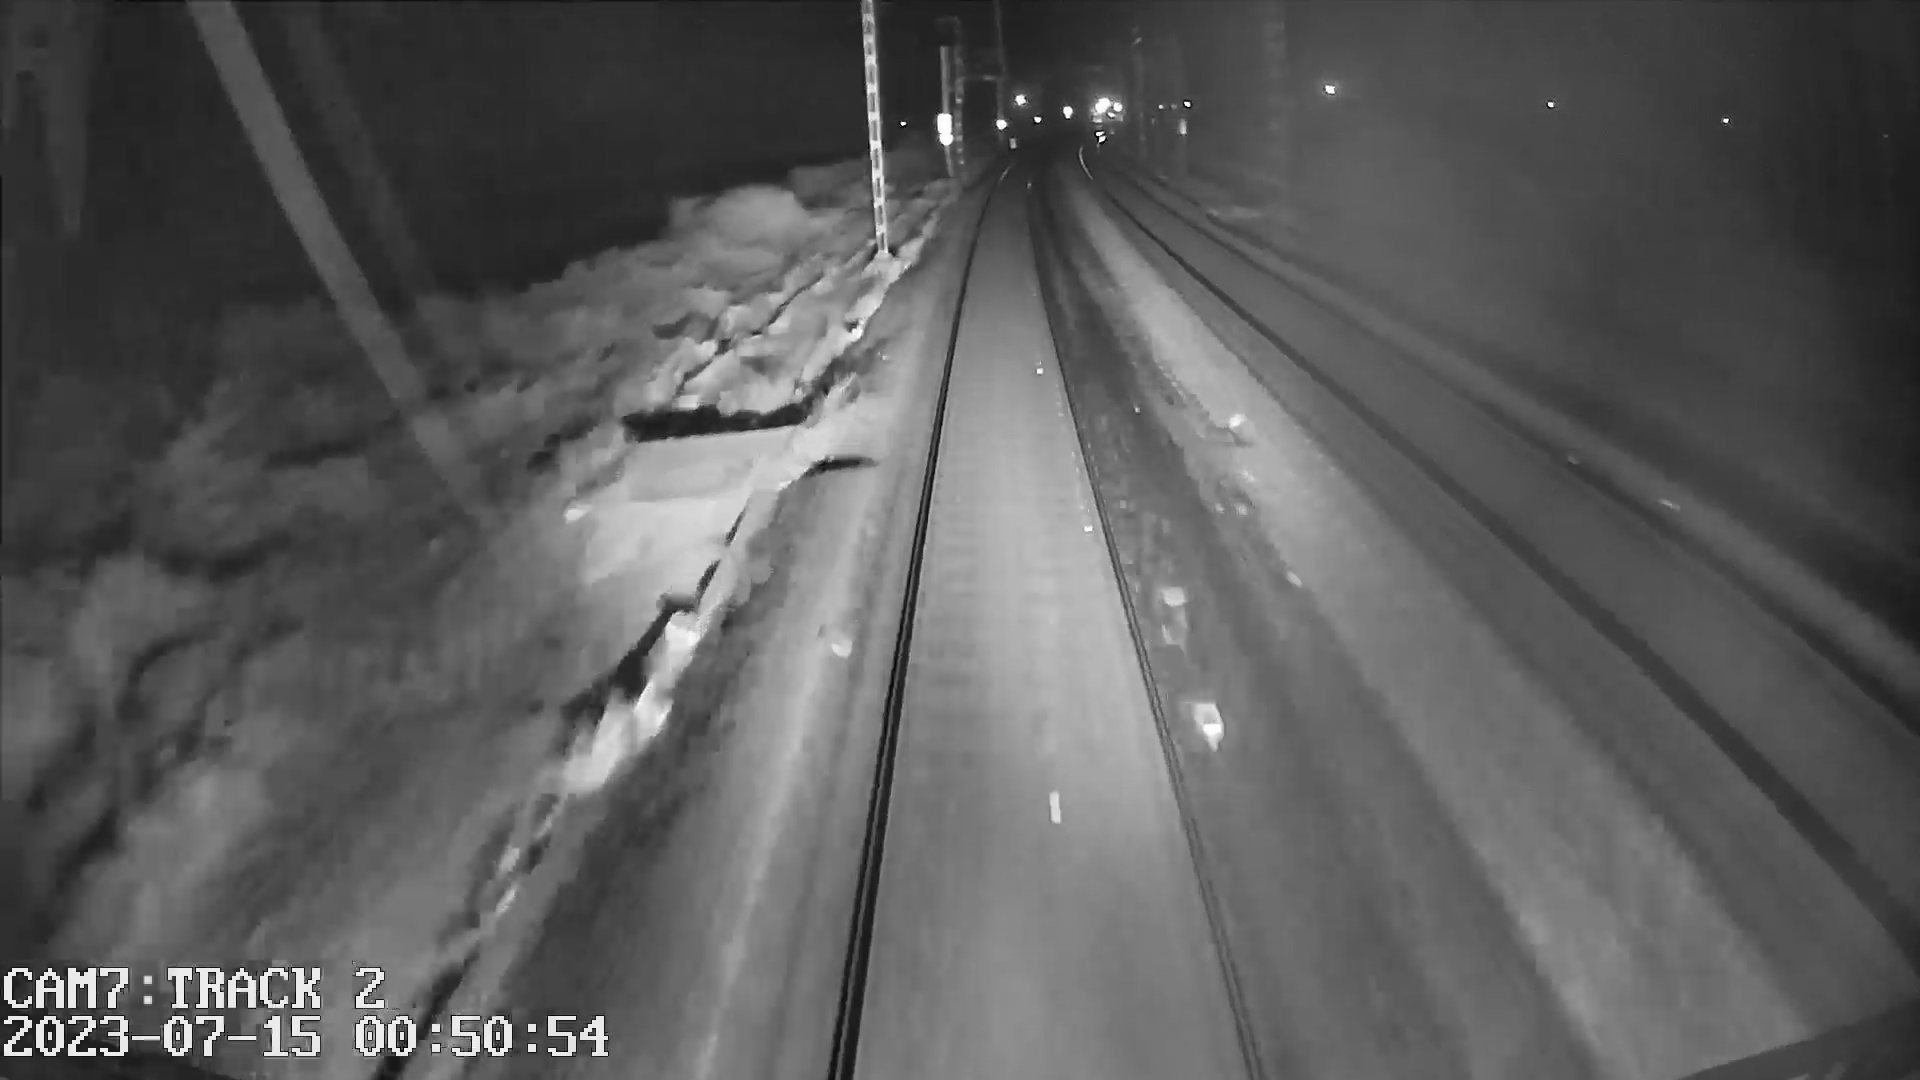track1: (846, 201, 1247, 1026)
track2: (1124, 199, 1903, 838)
